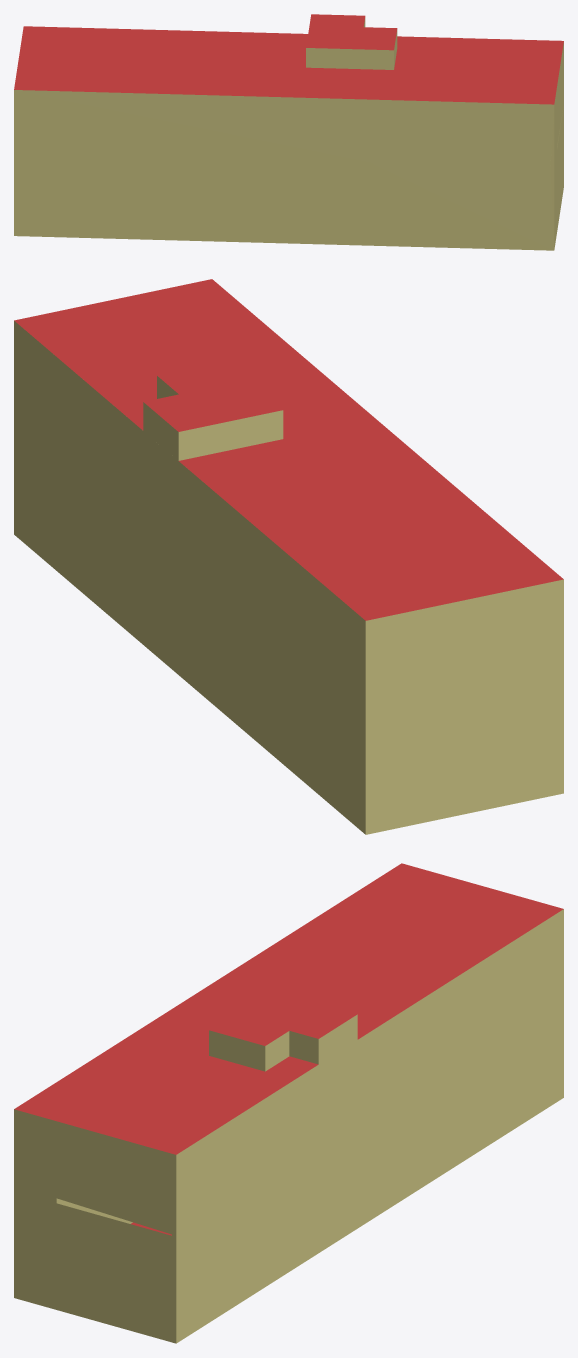
3 renders of one model, top to bottom at view 1: azimuth 30°, elevation 25°; view 2: azimuth 150°, elevation 25°; view 3: azimuth 270°, elevation 25°, orthographic. The views are drawn at different scales.
Visible parts, largest first — view 1: group_6, group_3, group_4, group_5; view 2: group_6, group_3, group_4, group_5; view 3: group_6, group_3, group_4, group_5.
Boxes of the visible parts, left/top/right/bottom form: group_6: left=14, top=42, right=563, bottom=250; group_3: left=14, top=26, right=563, bottom=104; group_4: left=306, top=14, right=397, bottom=50; group_5: left=306, top=18, right=397, bottom=69; group_6: left=14, top=321, right=563, bottom=834; group_3: left=14, top=279, right=563, bottom=620; group_4: left=144, top=361, right=282, bottom=431; group_5: left=143, top=376, right=283, bottom=460; group_6: left=14, top=909, right=563, bottom=1343; group_3: left=14, top=863, right=563, bottom=1154; group_4: left=209, top=990, right=356, bottom=1045; group_5: left=209, top=1014, right=357, bottom=1071.
Size of the model in its own units: 50.94 by 40.6 by 17.45.
